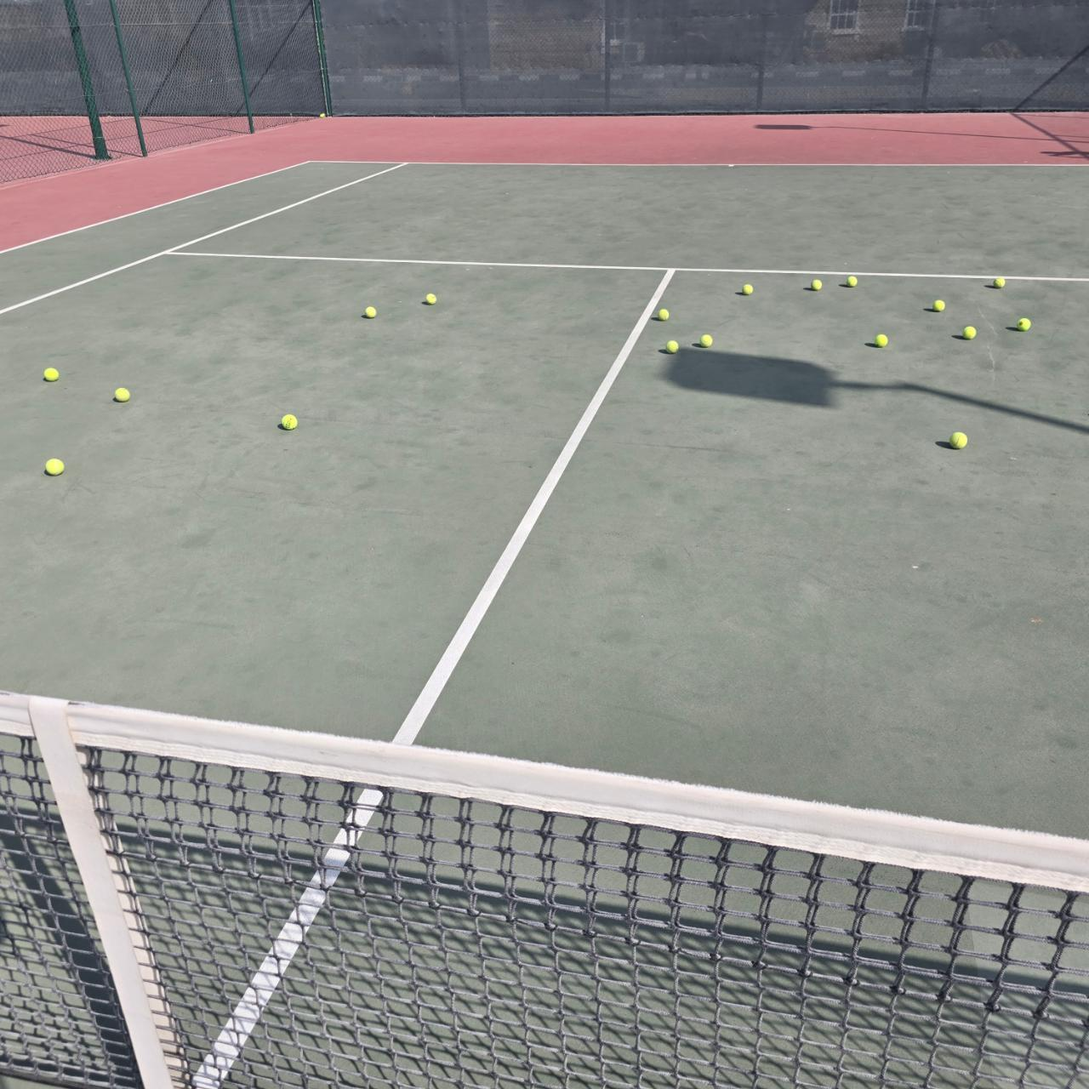tennis-ball: (43, 456, 64, 476), (278, 412, 298, 430), (949, 429, 967, 448), (112, 385, 129, 402), (42, 365, 59, 381), (654, 305, 670, 320), (698, 332, 713, 347), (962, 323, 976, 339), (665, 340, 680, 354), (1016, 316, 1030, 330), (422, 291, 436, 305), (362, 304, 376, 317), (874, 334, 888, 347), (993, 277, 1007, 290), (932, 298, 945, 311), (846, 275, 857, 288), (742, 284, 753, 295), (811, 279, 822, 290), (320, 113, 326, 119)
